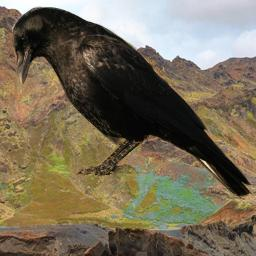Crow: (12, 6, 255, 199)
